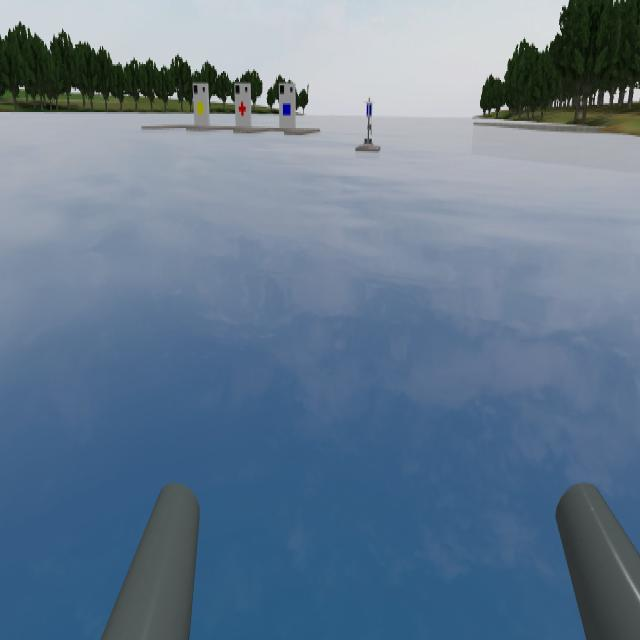blue_pole: (362, 90, 376, 125)
